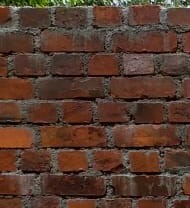brick: (42, 172, 106, 198), (39, 28, 106, 52), (113, 28, 179, 52), (111, 125, 181, 147), (39, 76, 107, 98), (39, 126, 107, 148), (109, 78, 178, 99), (1, 29, 34, 54), (96, 101, 131, 124), (137, 175, 173, 197), (1, 175, 38, 196), (13, 53, 48, 75), (133, 100, 166, 123), (54, 6, 88, 28), (1, 76, 35, 98), (63, 100, 94, 124), (1, 127, 36, 148), (157, 54, 190, 76), (27, 102, 60, 124), (56, 150, 89, 172), (17, 7, 51, 28), (51, 54, 83, 76), (128, 150, 160, 172), (128, 6, 161, 27), (87, 54, 120, 75), (92, 6, 123, 28), (21, 150, 50, 172), (122, 54, 155, 73), (94, 150, 122, 171), (165, 150, 190, 170), (168, 101, 190, 123), (167, 7, 190, 28), (109, 174, 130, 195), (1, 102, 23, 122), (1, 149, 18, 173)
